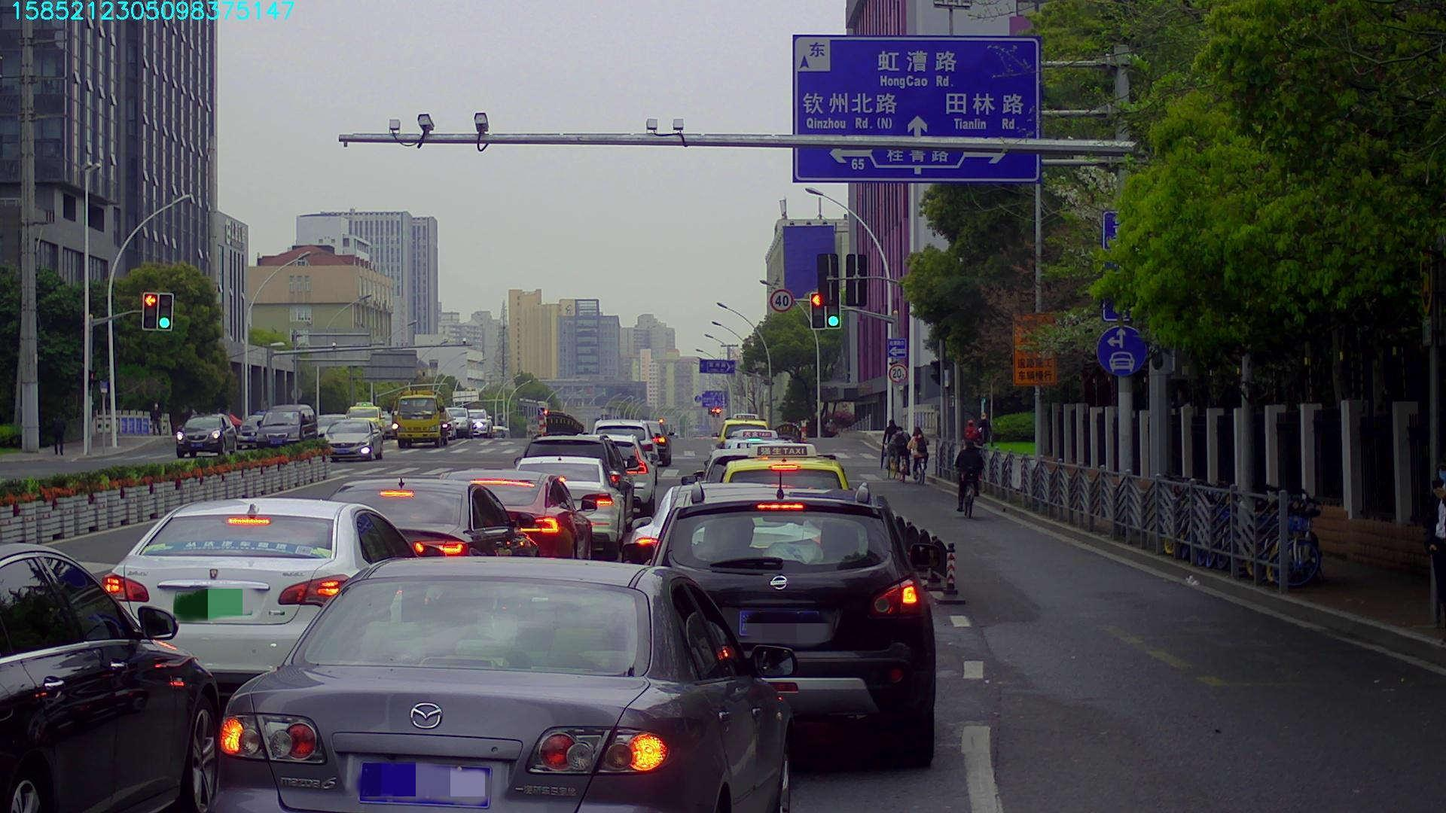green: (824, 291, 839, 327), (157, 293, 171, 329)
red: (810, 292, 825, 328), (143, 293, 157, 328)
